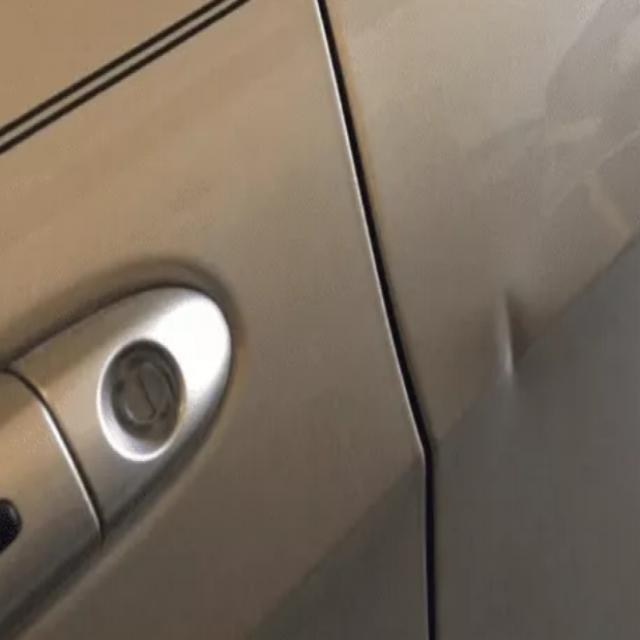dents: (475, 278, 569, 400)
